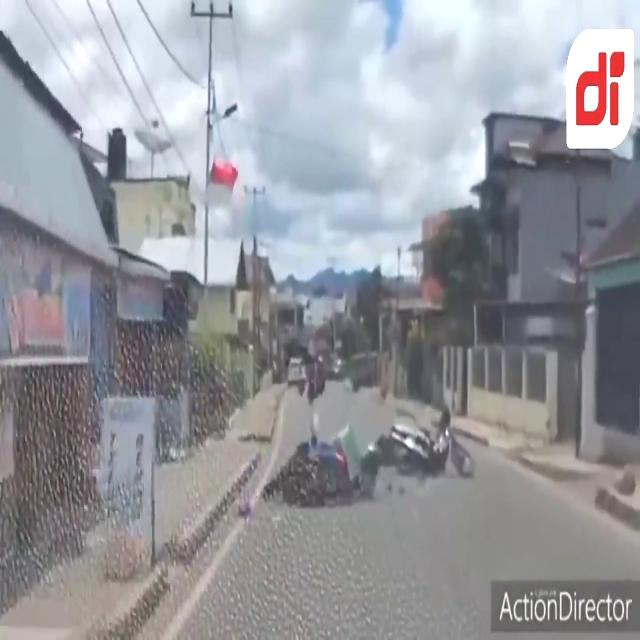accident: (236, 405, 478, 517)
non-accident: (287, 355, 327, 405)
